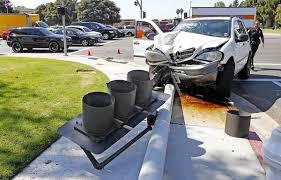bonnet-dent: (159, 30, 216, 55)
front-bumper-dent: (153, 62, 217, 80)
